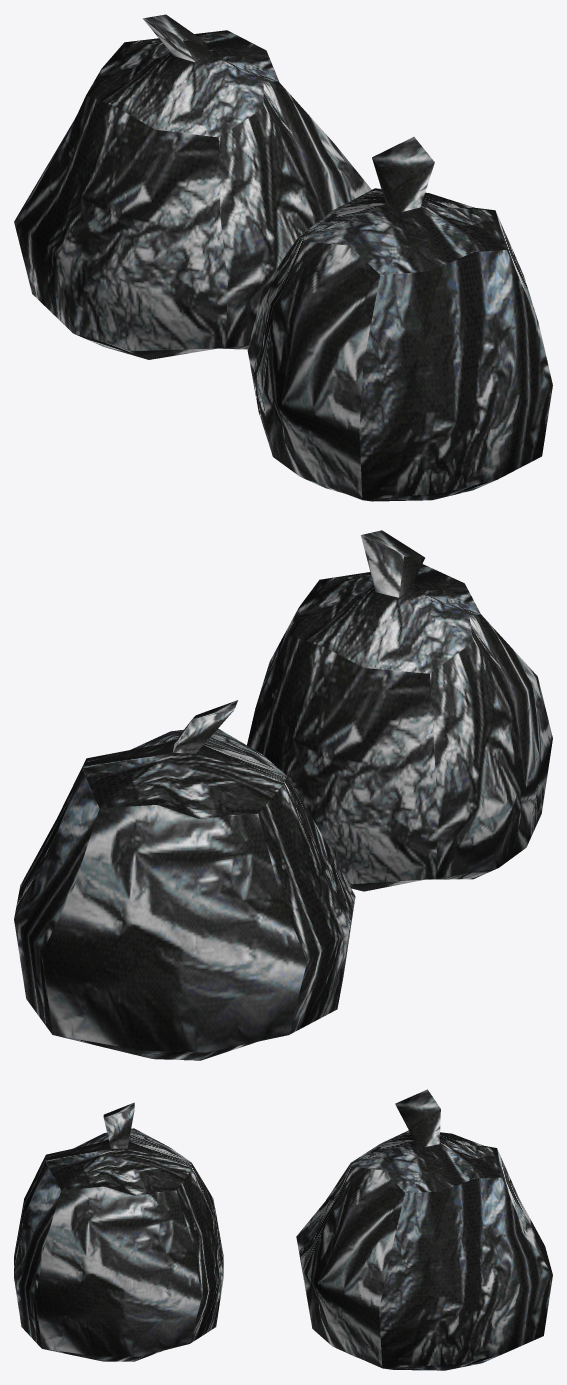
The model's file is Trashbags.fbx.
3 renders of one model, top to bottom at view 1: azimuth 30°, elevation 25°; view 2: azimuth 150°, elevation 25°; view 3: azimuth 270°, elevation 25°, orthographic. The views are drawn at different scales.
Parts seen in each view (by area): view 1: Cube, Cube.001; view 2: Cube.001, Cube; view 3: Cube.001, Cube.
Boxes of the visible parts, x1,y1,x2,y2 form: Cube: (247, 137, 552, 501); Cube.001: (14, 14, 371, 359); Cube.001: (14, 700, 355, 1060); Cube: (247, 530, 552, 891); Cube.001: (296, 1089, 552, 1370); Cube: (14, 1102, 223, 1361).
Bounding box in the file's own units: 352 × 354 × 739.
2 materials, 2 textured.
